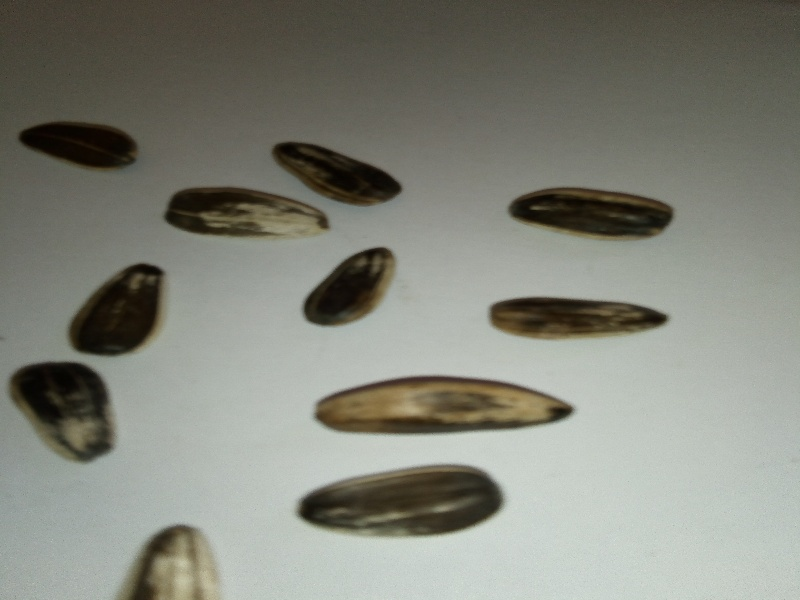girasol: (307, 372, 585, 444), (291, 461, 510, 550), (482, 290, 678, 352), (496, 181, 682, 241), (295, 243, 405, 339)
